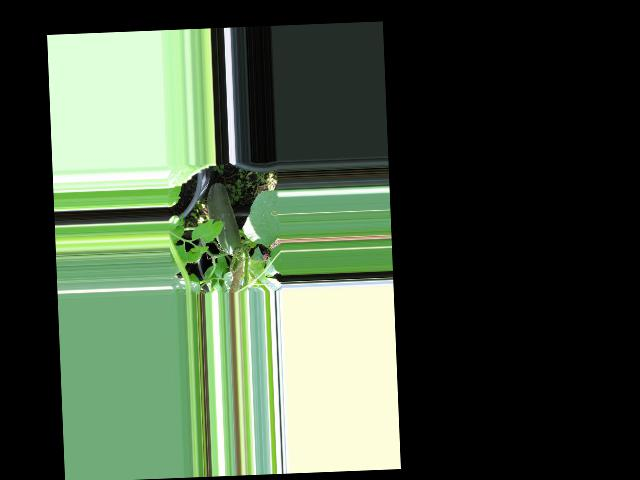cucumber: (206, 182, 242, 256)
